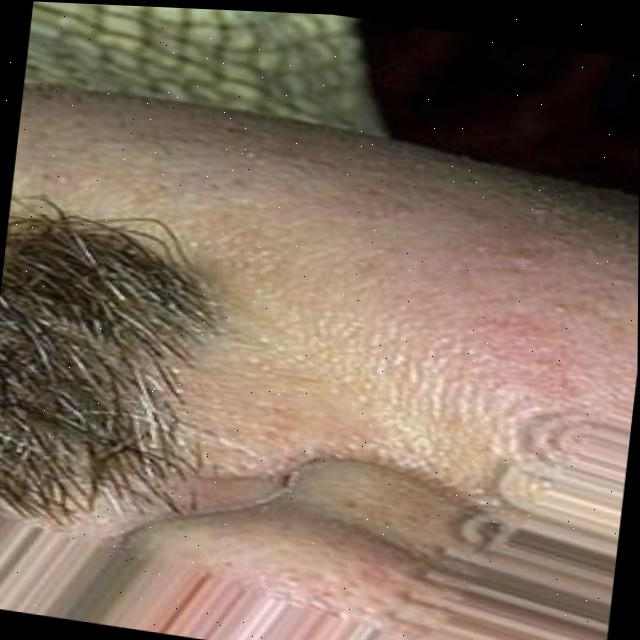Rosacea: (341, 186, 582, 429)
